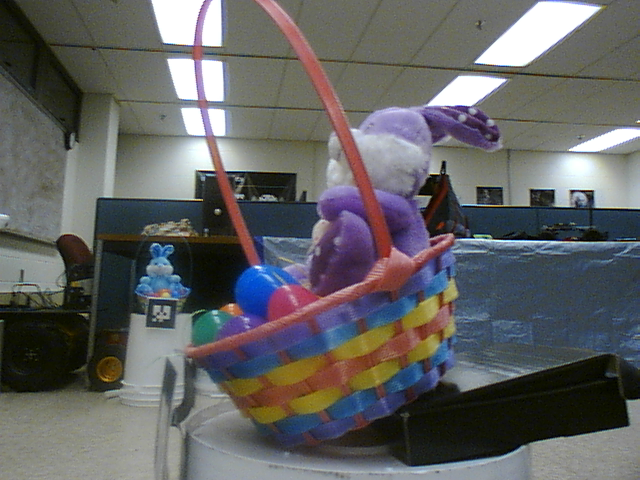bunny: (182, 3, 490, 438), (137, 222, 192, 312)
